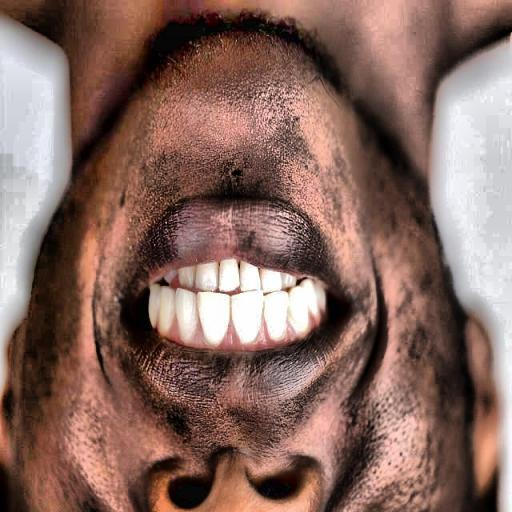Healthy: (122, 196, 464, 473)
